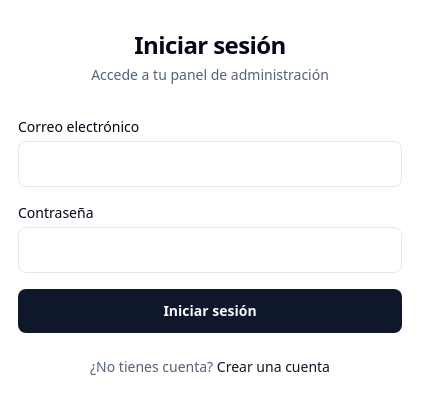
LoginPage › shows validation error when submitting empty form
Click the button "Iniciar sesión". click: click(210, 311)
box: [18,289,402,333]
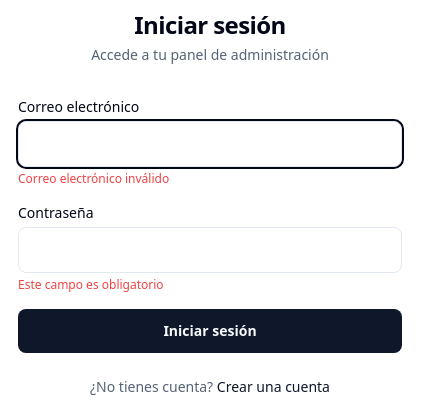
Check: the message "Correo electrónico inválido" is shown, box [18,170,169,187]
